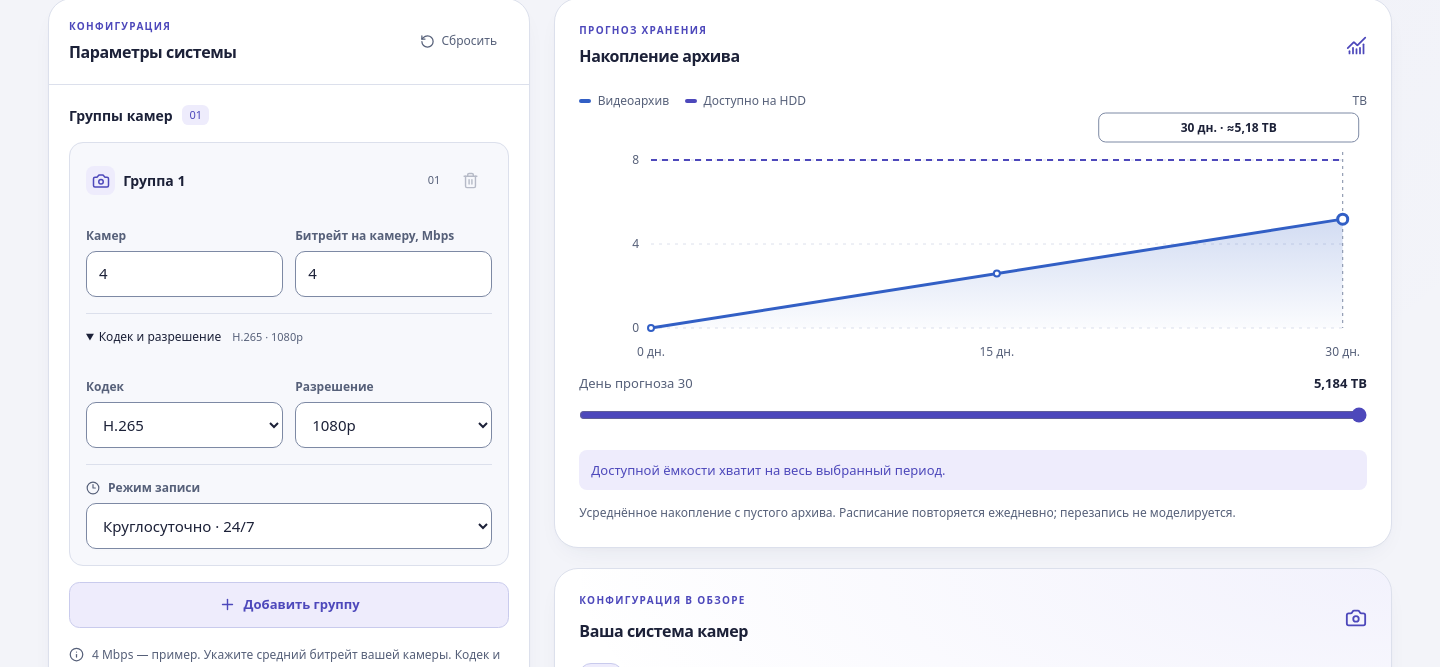
Scenario: calculator interactions › updates totals and reverse retention immediately
This screenshot has width=1440, height=667.
(page scrolled)
Replace the text in the field labelled "Камер" with "1" at [185, 274], box [86,251,283,297]
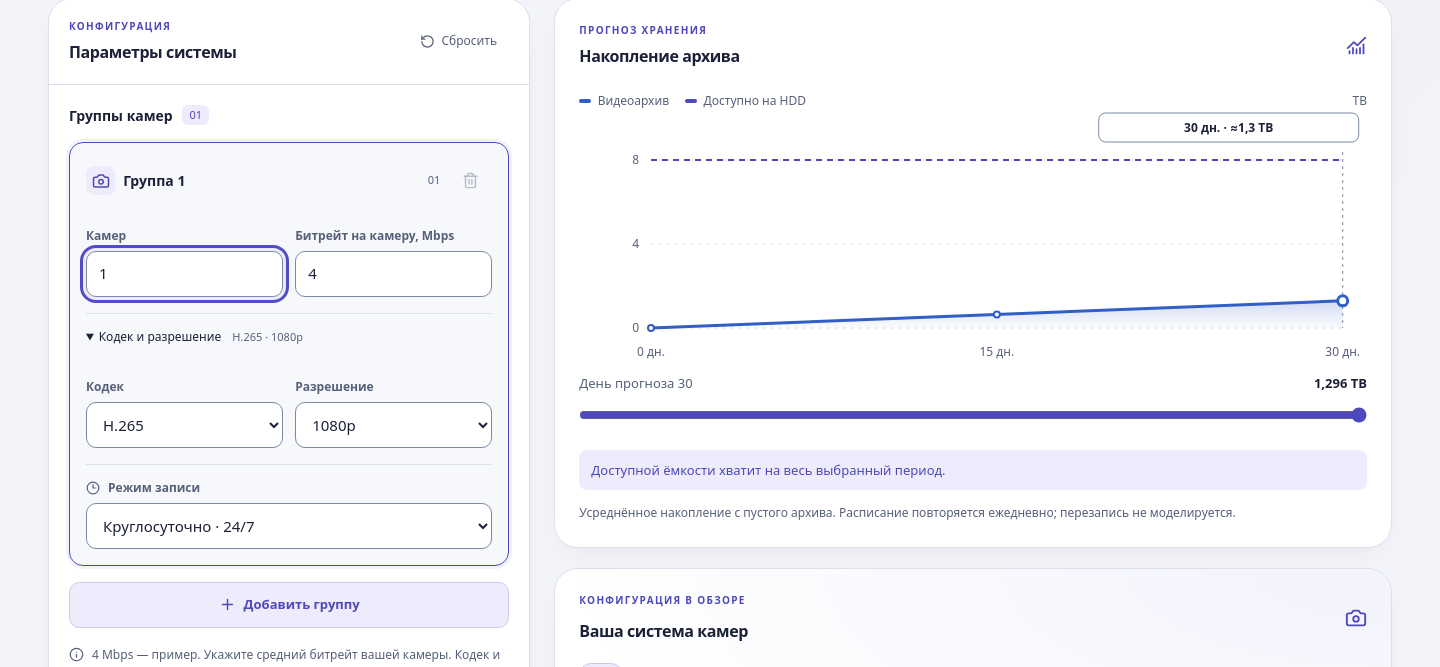
Replace the text in the field labelled "Битрейт на камеру, Mbps" with "1" at [394, 274], box [295,251,492,297]
(page scrolled)
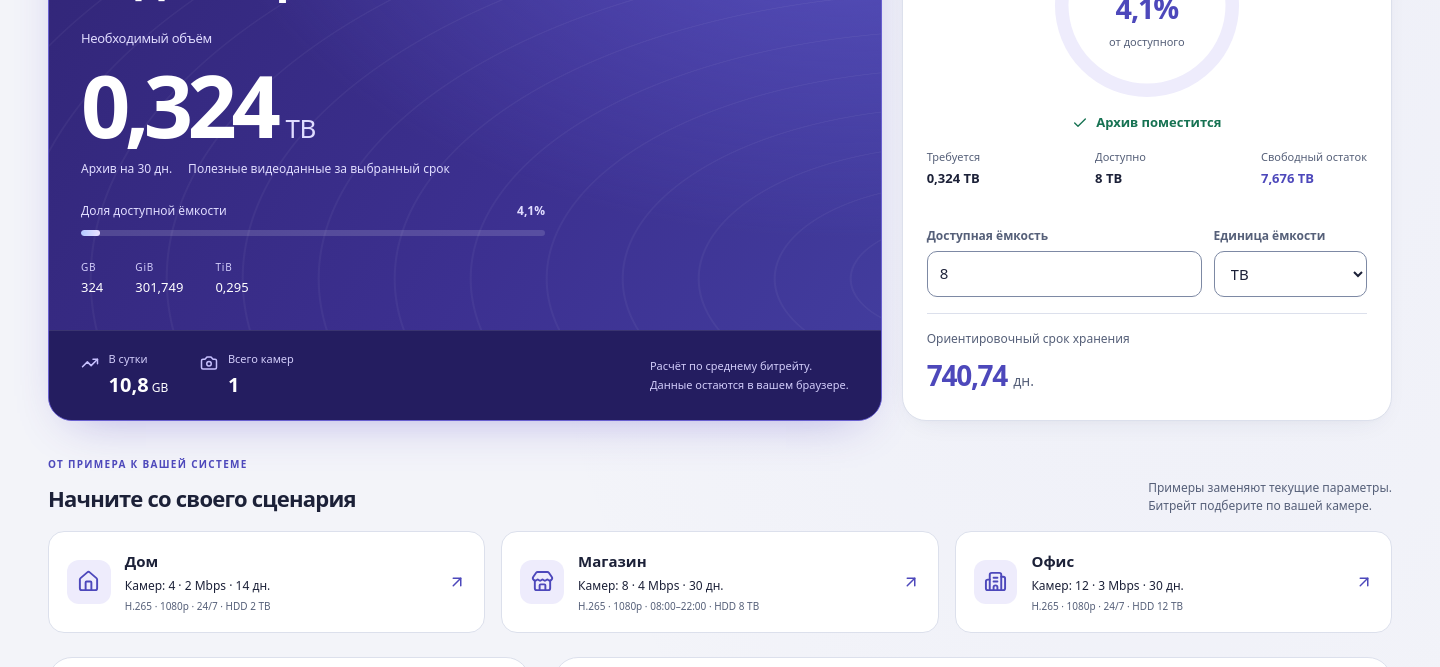
Clear the field labelled "Доступная ёмкость" at [1064, 274], box [927,251,1202,297]
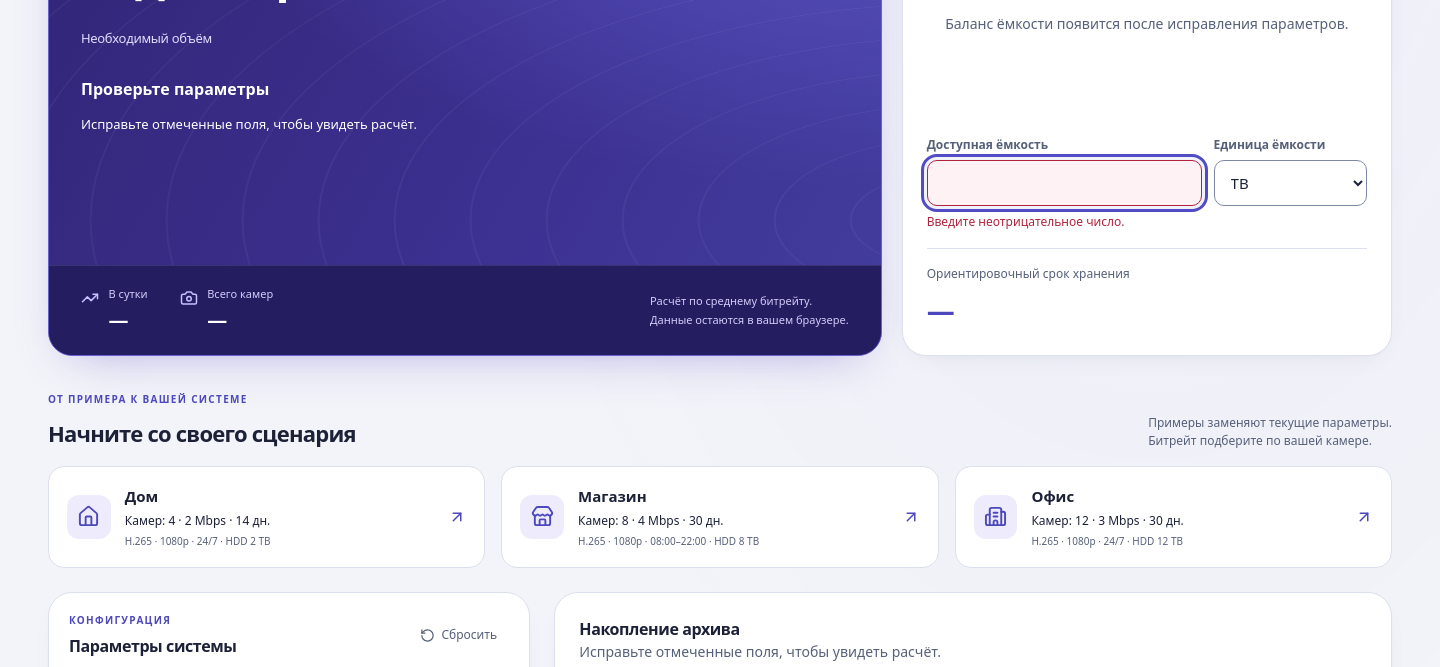
Type "1" into the field labelled "Доступная ёмкость" at [1064, 183], box [927,160,1202,206]
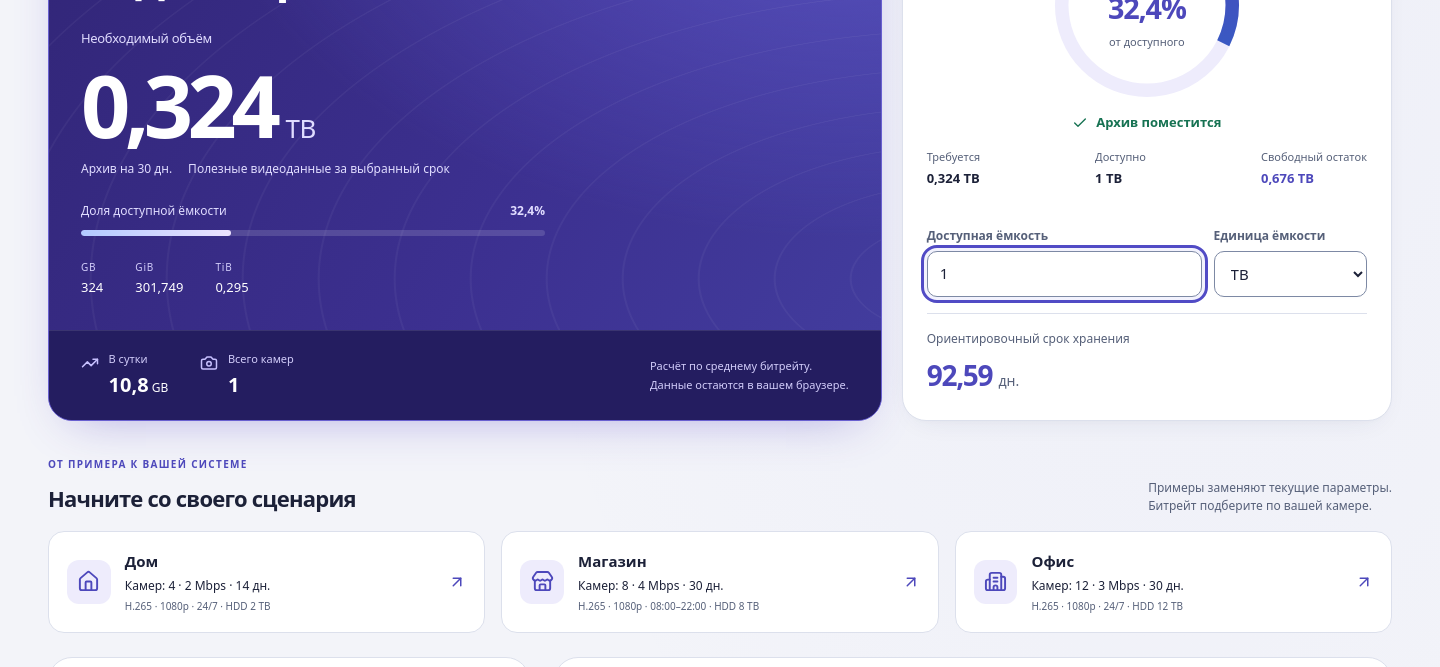
Expected: the text with test id "total-gb" reads "324", [81,278,103,296]
Expected: the element with test id "retention" shows "92,59", [927,356,992,394]
